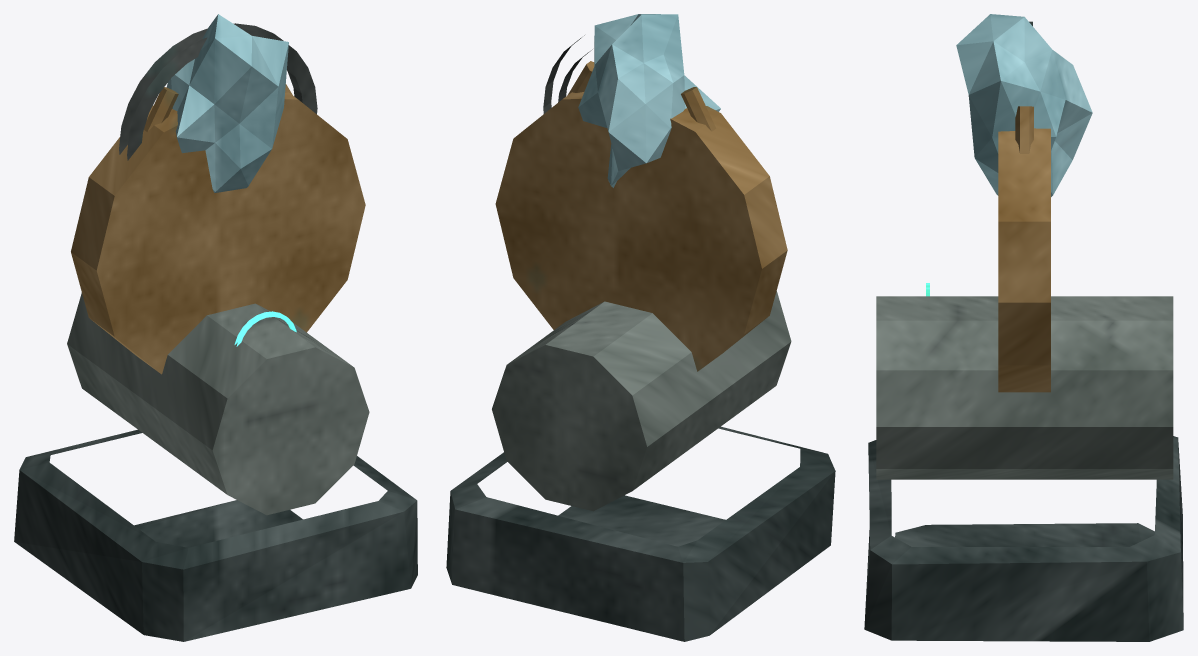
File: 0592_relic_pedestal_17.glb
The picture shows the model from 3 angles, left to right: view 1: azimuth 30°, elevation 25°; view 2: azimuth 150°, elevation 25°; view 3: azimuth 270°, elevation 25°; orthographic projection. The views are drawn at different scales.
Parts seen in each view (by area): view 1: brass, stone_dark, stone, ice, iron; view 2: brass, stone_dark, stone, ice, iron; view 3: stone, stone_dark, brass, ice.
Boxes of the visible parts, x1,y1,x2,y2 form: brass: (71, 84, 365, 374); stone_dark: (14, 429, 417, 641); stone: (67, 292, 369, 515); ice: (166, 14, 288, 192); iron: (119, 23, 317, 160); brass: (495, 61, 787, 371); stone_dark: (446, 426, 835, 641); stone: (492, 291, 791, 511); ice: (578, 14, 720, 187); iron: (543, 35, 592, 113); stone: (876, 296, 1173, 479); stone_dark: (864, 436, 1183, 641); brass: (998, 106, 1050, 392); ice: (956, 14, 1092, 196).
Bounding box in the file's own units: 0.9715 × 1.89 × 0.9673.
6 materials, 6 textured.
